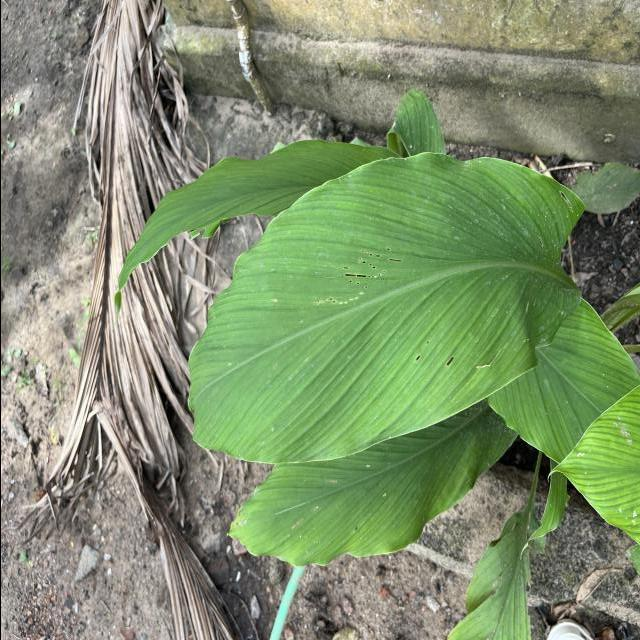Curcuma longa: (180, 148, 588, 473)
